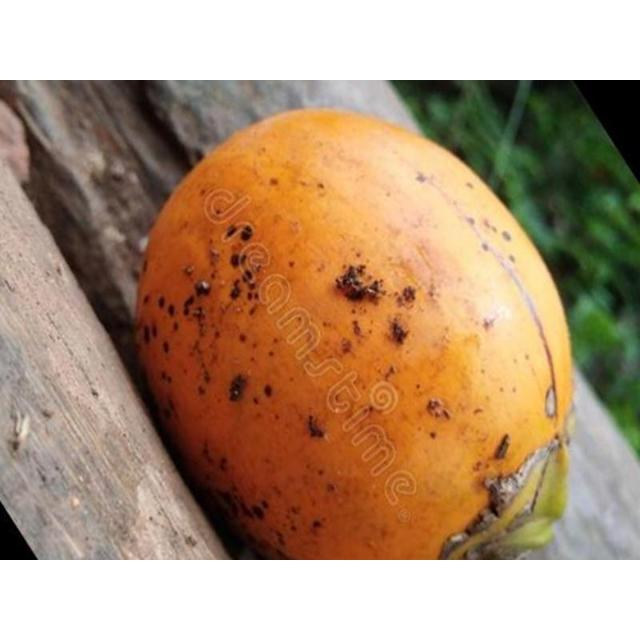good: (128, 107, 637, 559)
